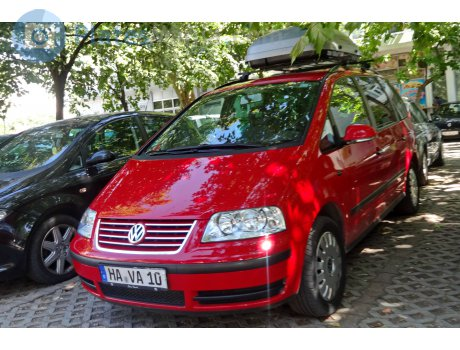License Plates: (106, 265, 166, 283)
